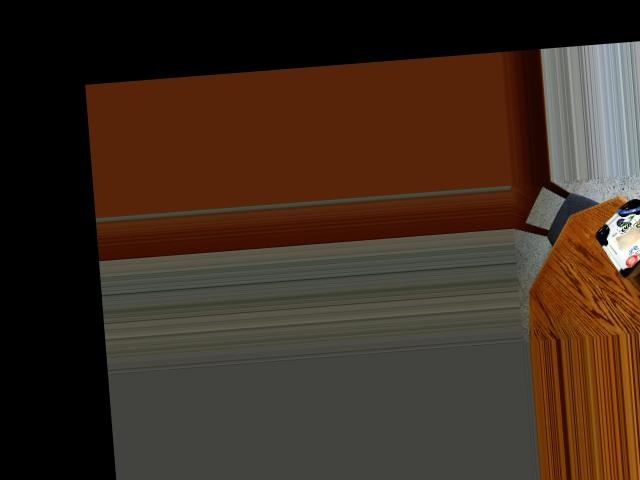cheese: (592, 204, 640, 274)
